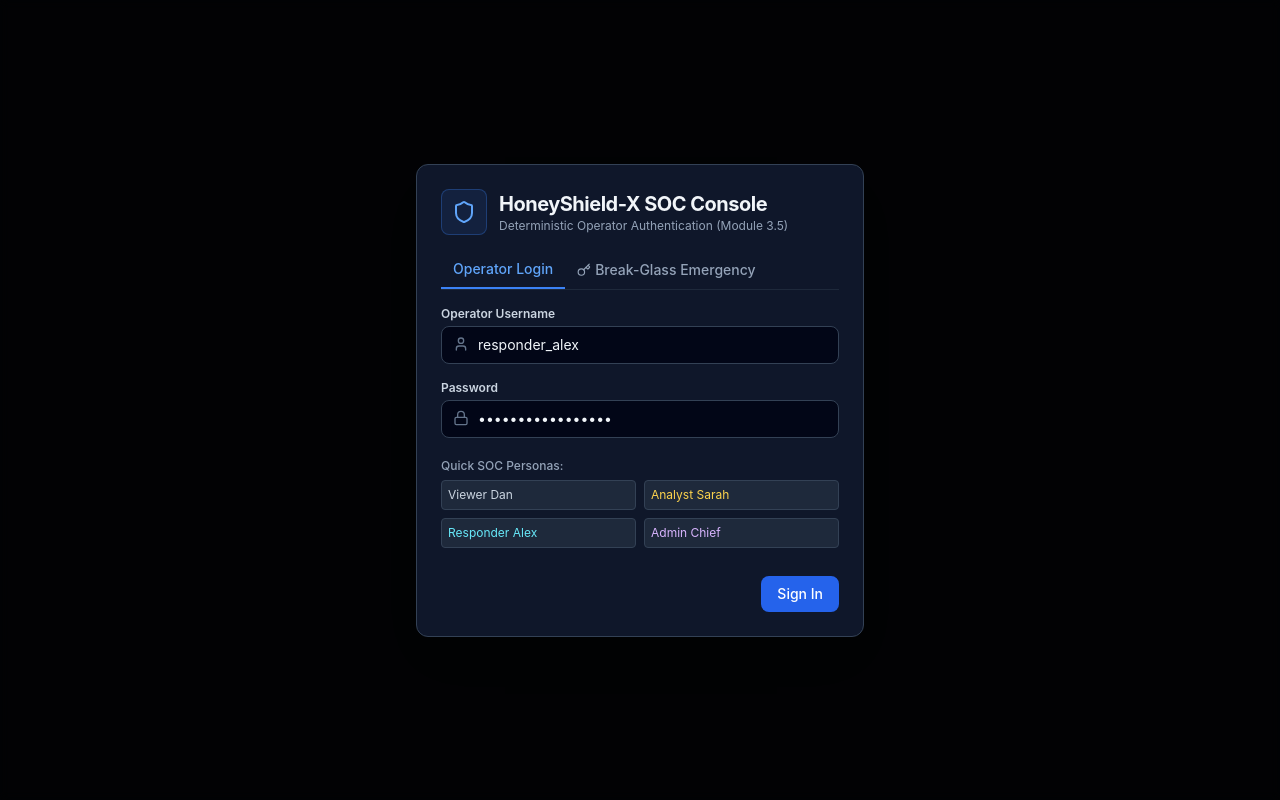
it: Module 3.5 Operator Authentication & RBAC Components › validates break-glass justification length >= 20 chars
The width and height of the screenshot is (1280, 800).
Click the button "Break-Glass Emergency" at (666, 274), box [565,258,768,288]
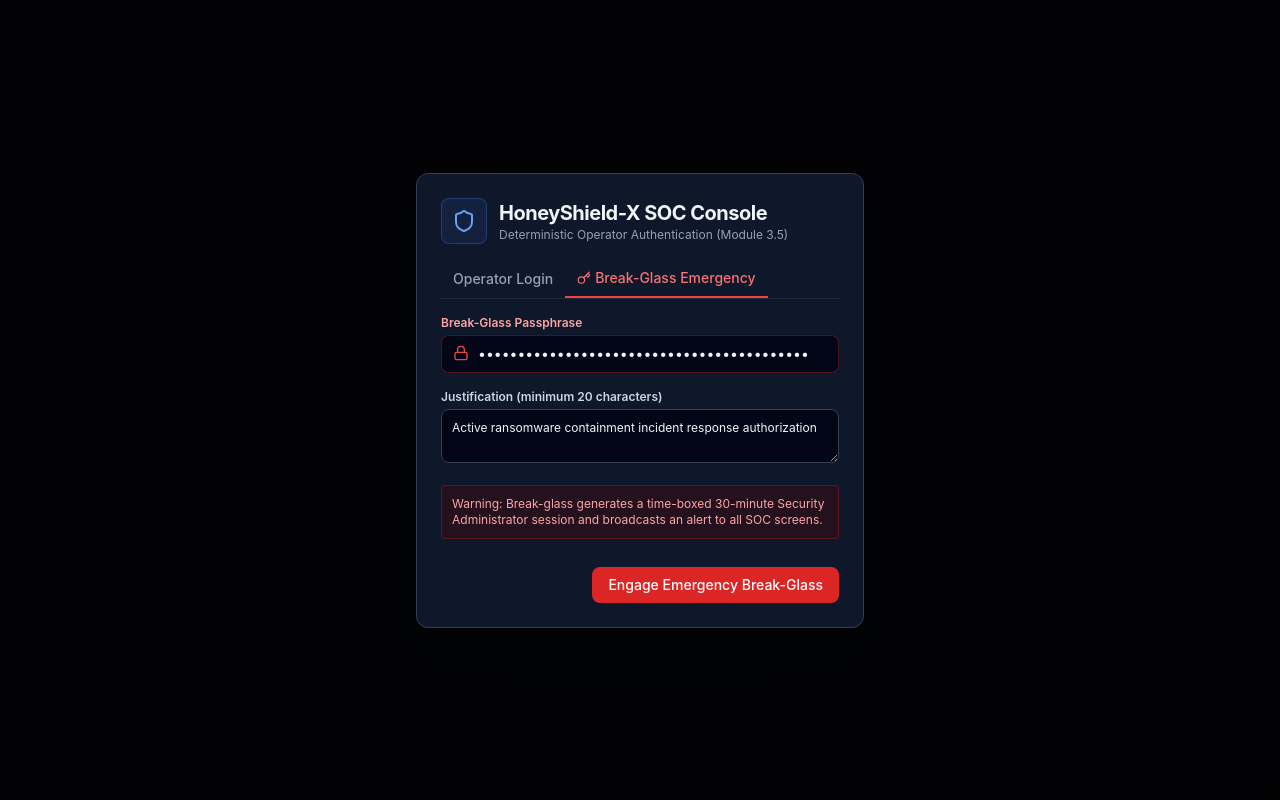
Check: the text "Break-Glass Passphrase" is shown, box [441,314,582,330]
Note: Type short justification
Replace the text in the text box with placeholder "Detail the operational security emergency..." with "Too short" at (640, 436), box [441,408,839,462]
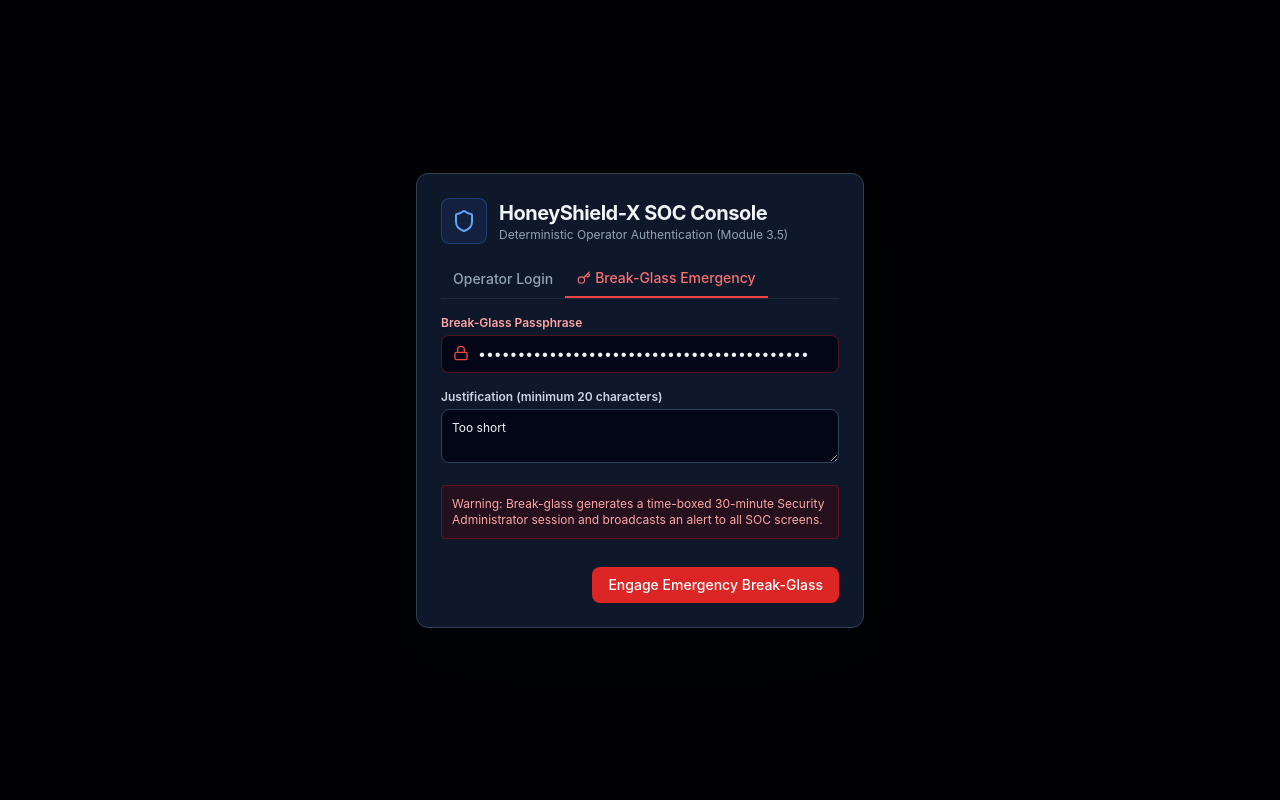
Submit the text "Engage Emergency Break-Glass", box [441,314,839,602]
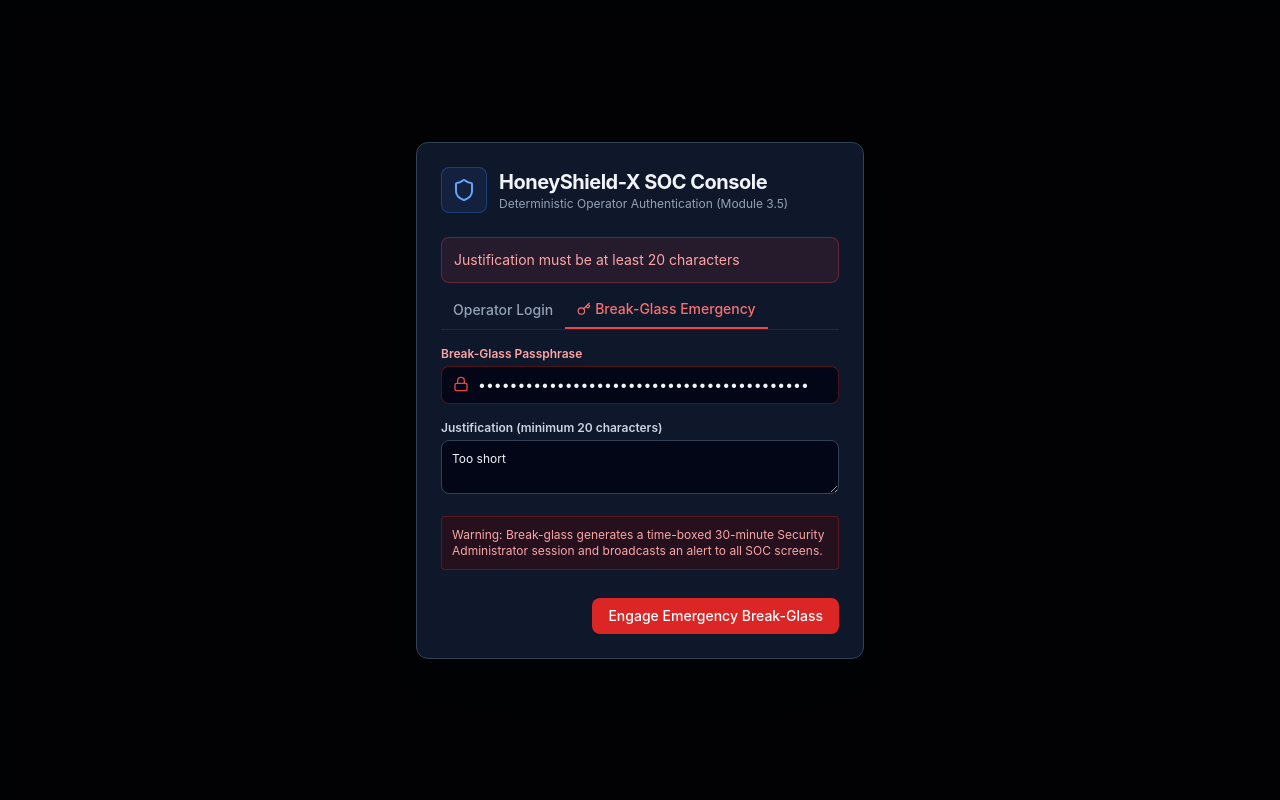
Check: the text "Justification must be at least 20 characters" is shown, box [441,236,839,282]
